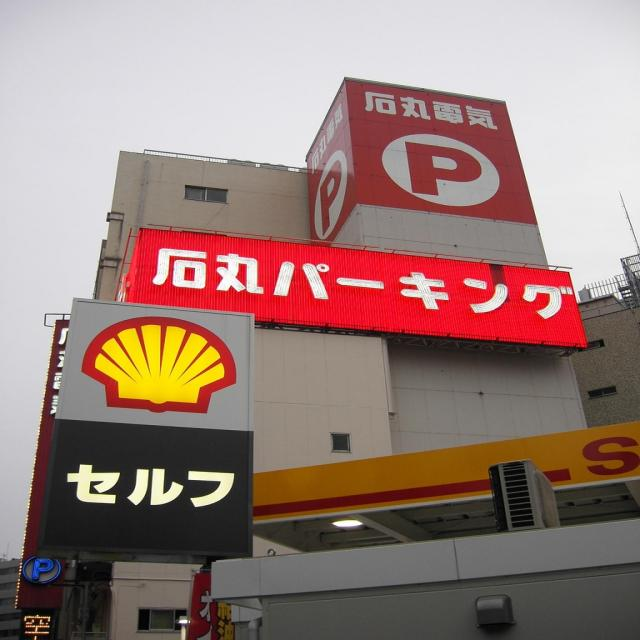shell: (83, 318, 240, 415)
